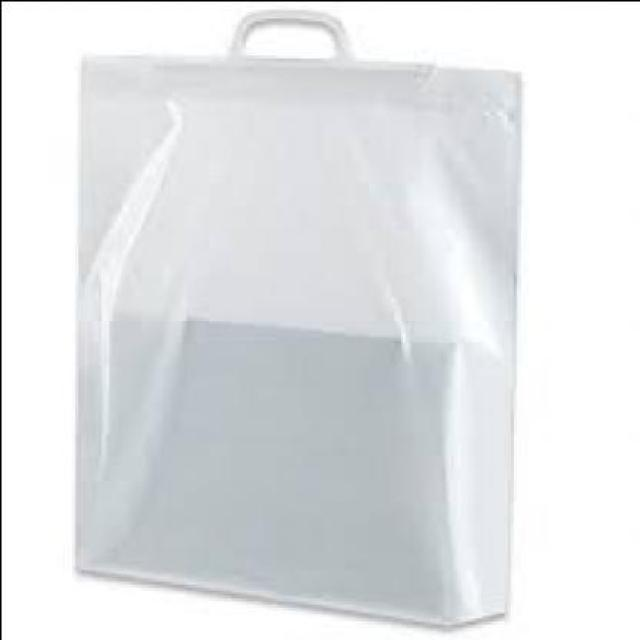plastic: (74, 6, 526, 623)
